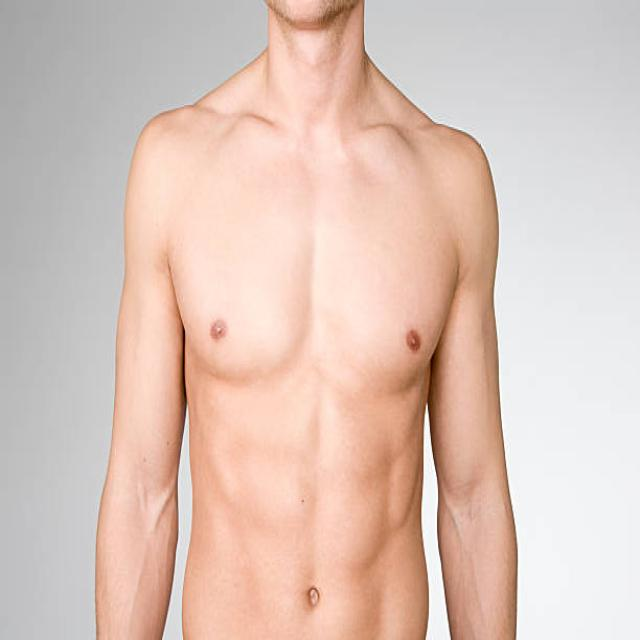piel: (93, 0, 523, 638)
